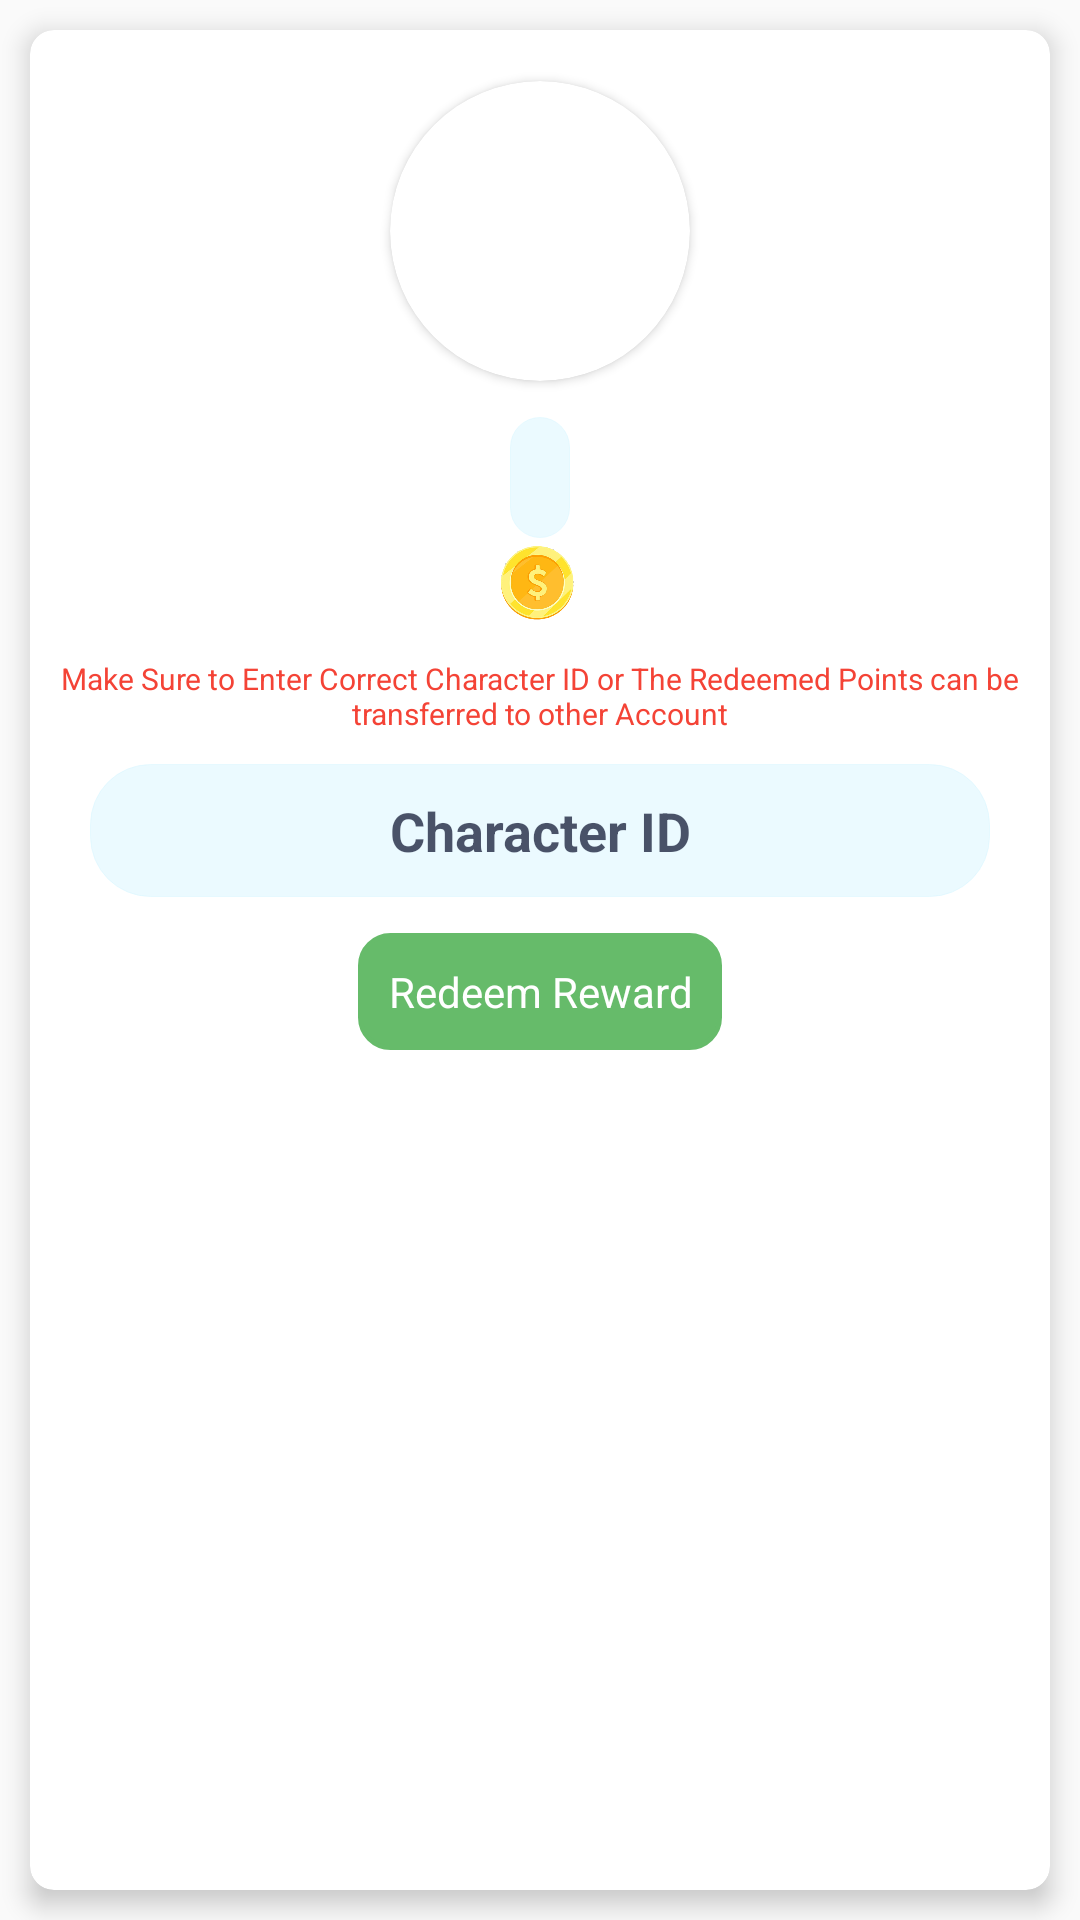

Point at icon controls on the screen. Image size 1080w x 1920h, points as point (x, y).
geniecoin: point (537, 583)
